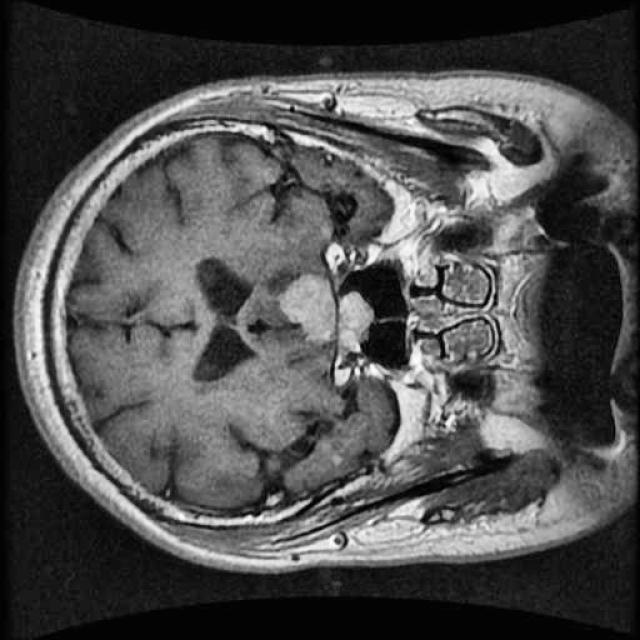Tumor: (261, 260, 384, 369)
